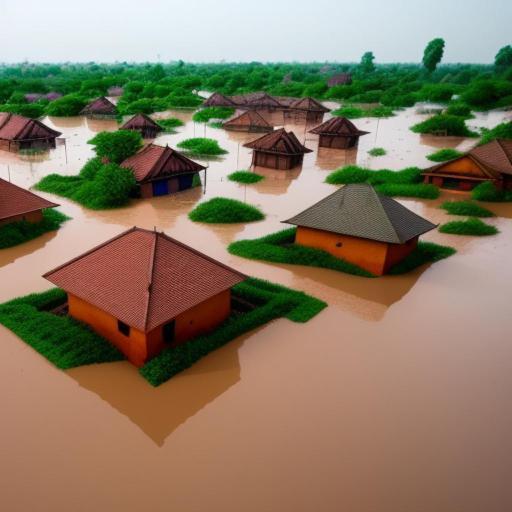flood: (0, 104, 512, 512), (0, 116, 120, 189), (151, 109, 220, 148), (466, 108, 512, 132), (224, 108, 246, 121), (196, 90, 213, 98)
house: (39, 218, 235, 365), (290, 185, 436, 285), (426, 138, 512, 200), (121, 139, 201, 205), (0, 173, 63, 239), (244, 126, 314, 171), (1, 111, 60, 161), (311, 114, 367, 150), (118, 110, 164, 137), (224, 109, 274, 133), (288, 94, 330, 118), (243, 90, 285, 112), (84, 95, 118, 117), (200, 89, 236, 107)
